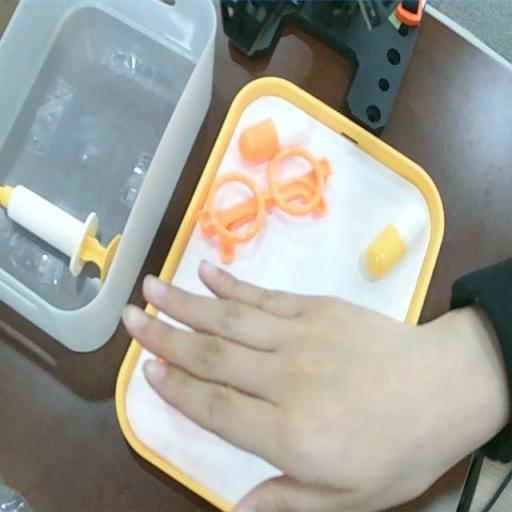hospital: (116, 251, 449, 512)
